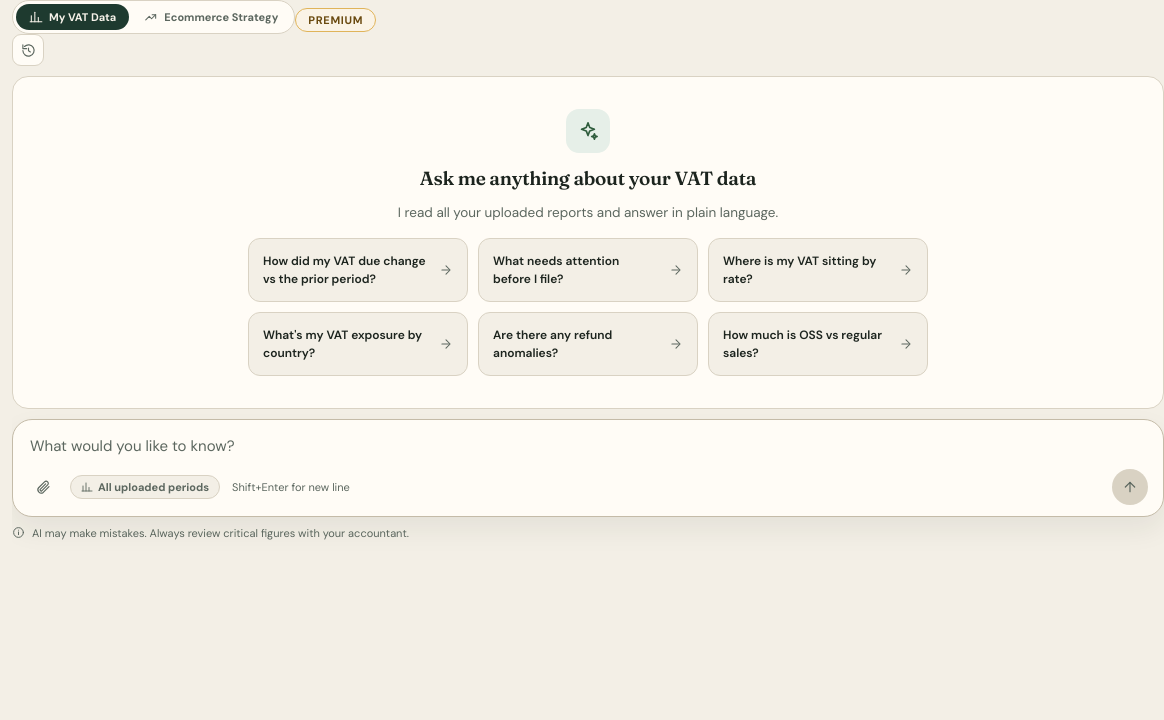
Test: AnalystPage › mode switching › shows strategy prompts in strategy mode
What coordinates should you click on to do the following:
click the tab "Ecommerce Strategy"
I would click on:
 (211, 17)
Its box is [131,4,291,30].
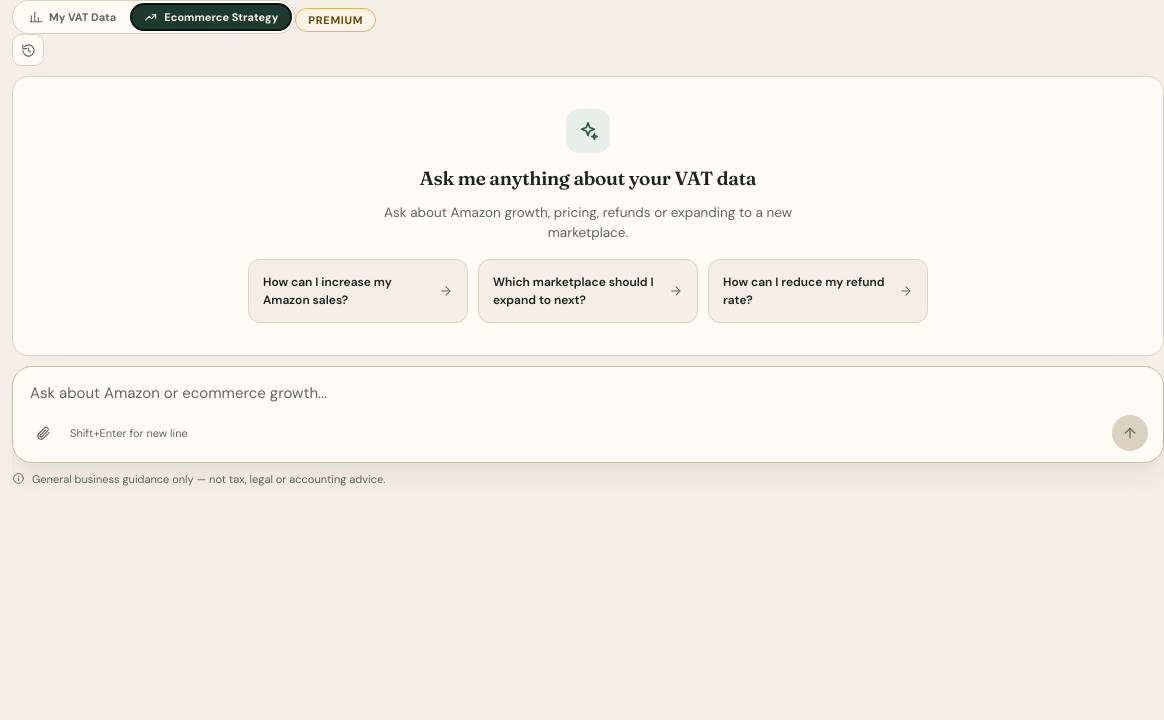
Check: the text "How can I increase my Amazon sales?" is shown, box [263,274,392,308]
